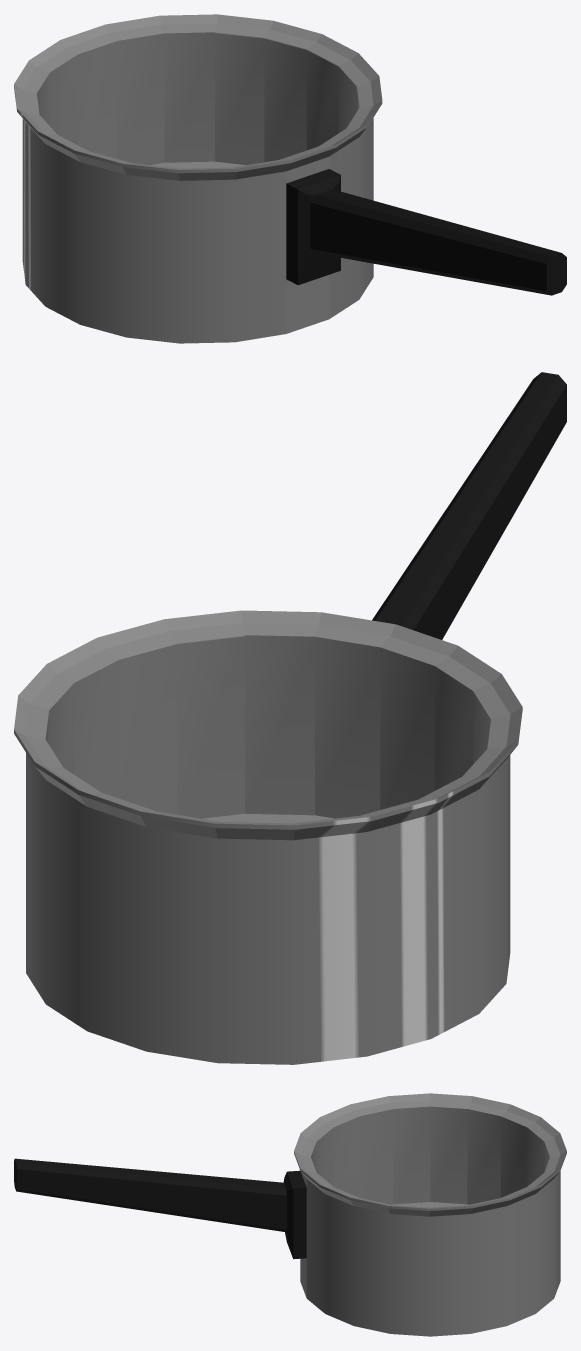
Rendered from gryde.fbx.
The picture shows the model from 3 angles, top to bottom: view 1: azimuth 30°, elevation 25°; view 2: azimuth 150°, elevation 25°; view 3: azimuth 270°, elevation 25°; orthographic projection. The views are drawn at different scales.
Visible parts, largest first — view 1: pCylinder1; view 2: pCylinder1; view 3: pCylinder1.
Boxes of the visible parts, x1,y1,x2,y2 form: pCylinder1: (14, 14, 566, 343); pCylinder1: (14, 372, 566, 1064); pCylinder1: (14, 1093, 566, 1336).
Size of the model in its own units: 8.72 by 5.25 by 17.66.
